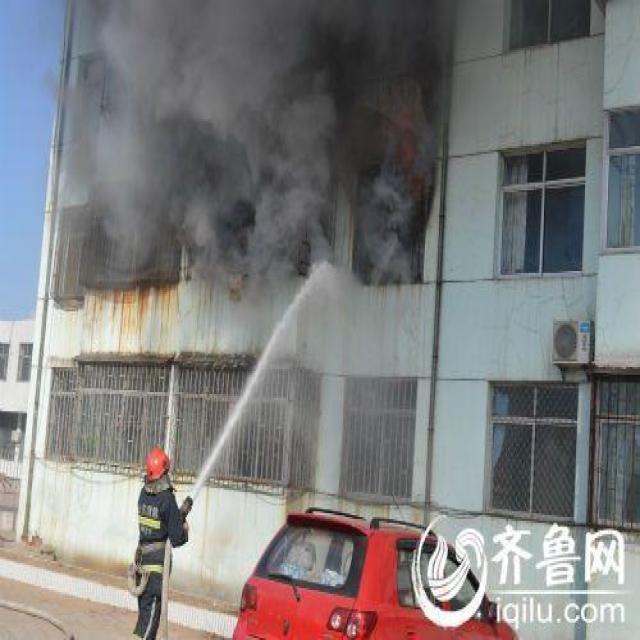Smoke: (81, 4, 456, 285)
